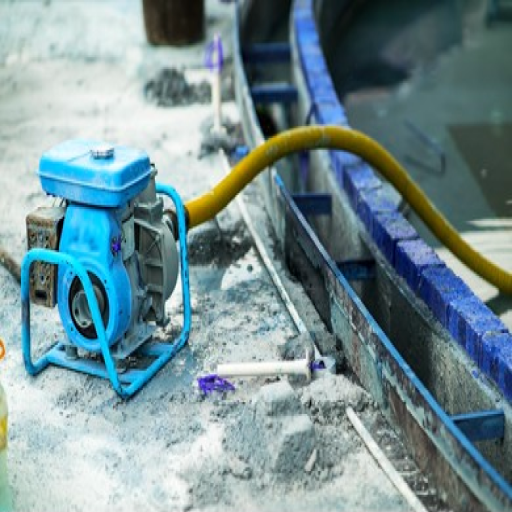portable_generator: (19, 144, 188, 401)
